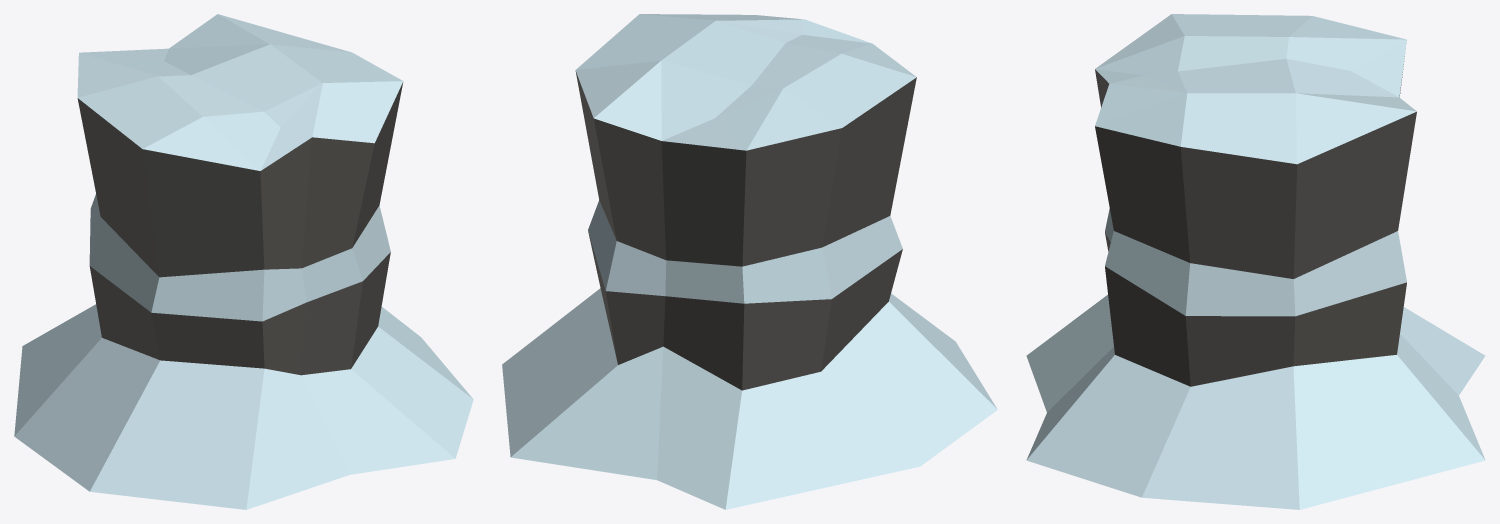
Rendered from SM_Env_Western_Butte_02_Snow.fbx.
3 views of the same model, side by side, from view 1: azimuth 30°, elevation 25°; view 2: azimuth 150°, elevation 25°; view 3: azimuth 270°, elevation 25° (orthographic). The views are drawn at different scales.
Parts seen in each view (by area): view 1: SM_Env_Western_Butte_02_Snow; view 2: SM_Env_Western_Butte_02_Snow; view 3: SM_Env_Western_Butte_02_Snow.
Part boxes in pixels (x1,y1,x2,y2): SM_Env_Western_Butte_02_Snow: (14,14,473,509); SM_Env_Western_Butte_02_Snow: (502,14,997,509); SM_Env_Western_Butte_02_Snow: (1026,14,1485,509).
Bounding box in the file's own units: 105 × 81.38 × 99.58.
Materials: 1 (1 with a texture image).
